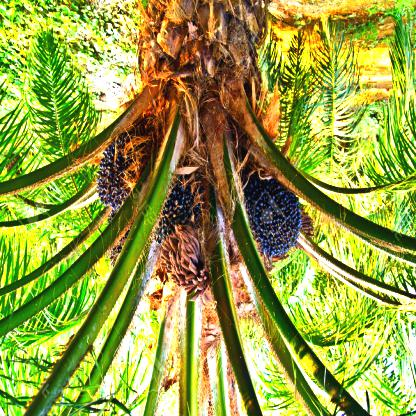palm-oil: (242, 176, 303, 265), (90, 128, 148, 209), (150, 184, 207, 254), (102, 211, 138, 268)
